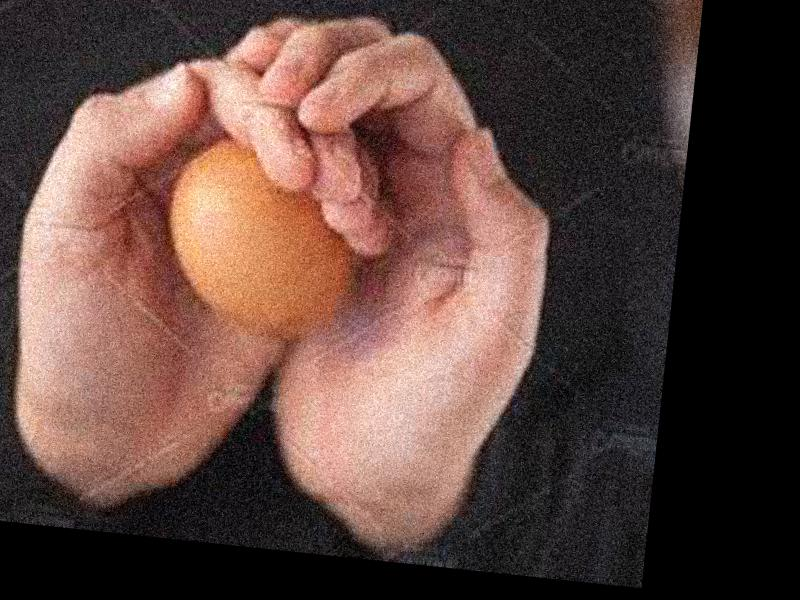Eggs: (157, 139, 373, 346)
